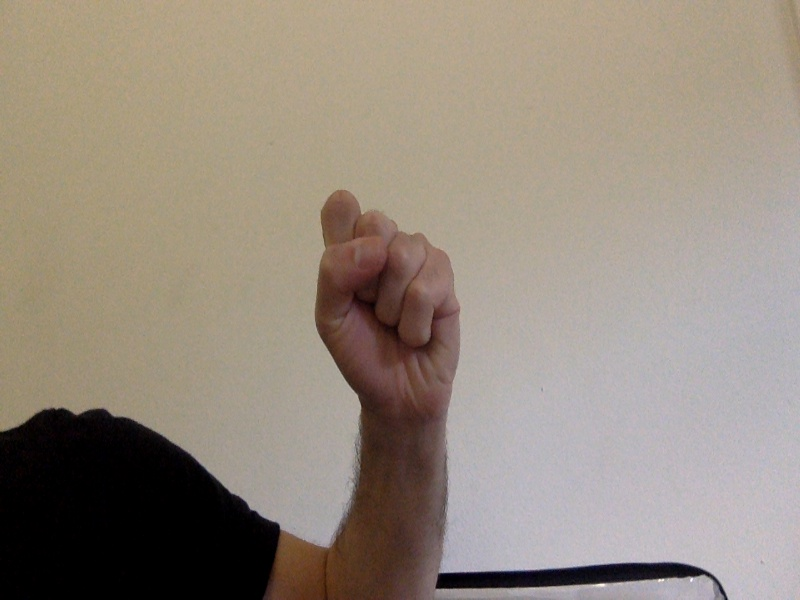0-hand: (319, 190, 461, 415)
